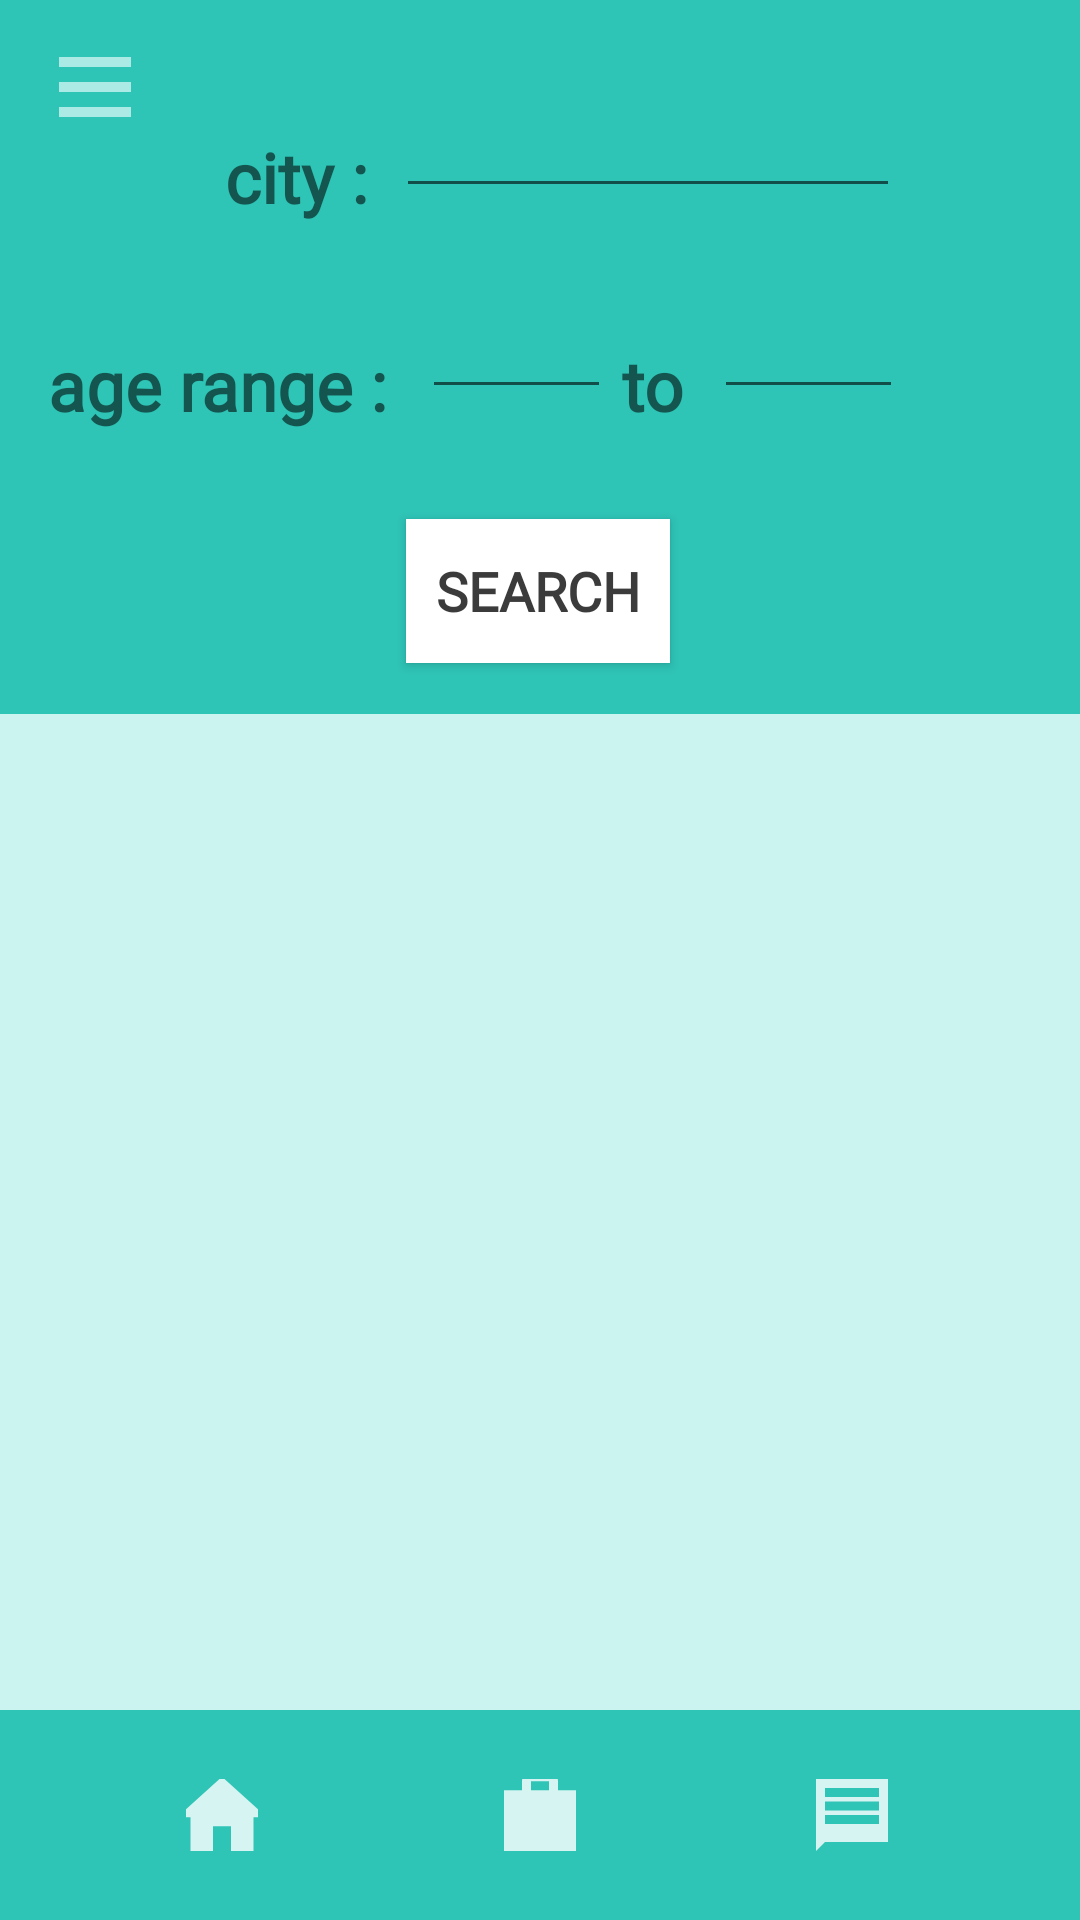

Icons on this 1080 × 1920 Android screen, each with its box as (x1, y1, x2, y2):
home: (186, 1779, 258, 1851)
jobs: (504, 1779, 576, 1851)
menu: (59, 57, 131, 117)
messages: (816, 1779, 888, 1851)
